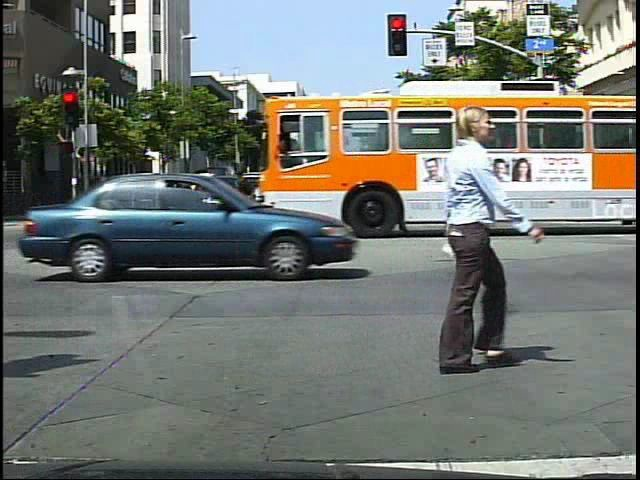person: (396, 89, 537, 390), (323, 164, 354, 228), (550, 160, 573, 211), (235, 166, 259, 207), (323, 166, 325, 230)
